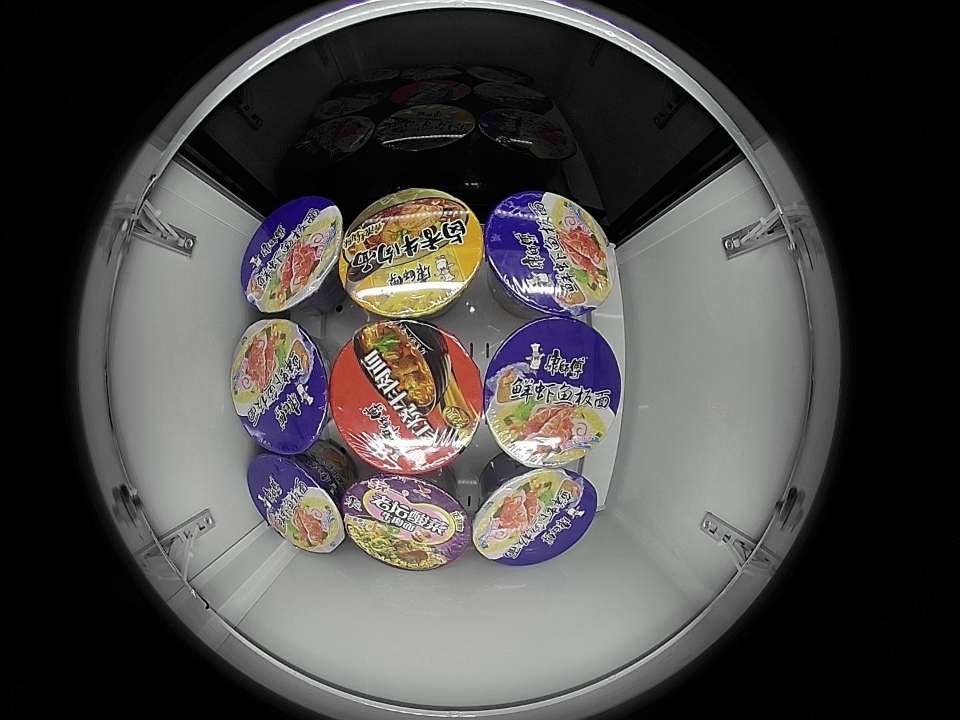hongshaoniurou: (328, 320, 485, 474)
laotansuancai: (341, 473, 473, 571)
luxiangniurou: (338, 188, 484, 319)
xianxiayuban: (481, 317, 622, 468), (484, 190, 615, 317), (231, 318, 331, 454), (471, 466, 598, 565), (240, 196, 344, 314), (247, 453, 346, 554)
